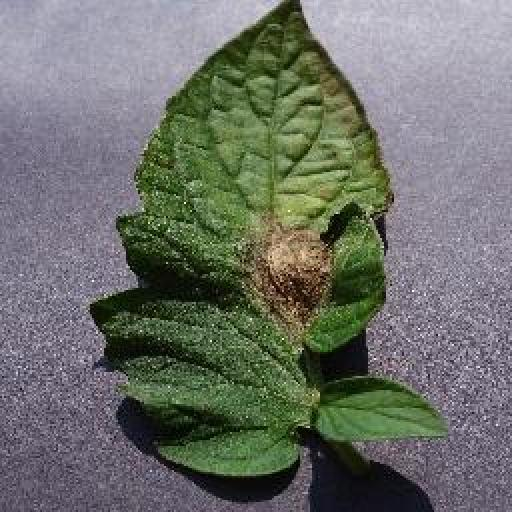disease_tomato: (87, 0, 452, 476)
